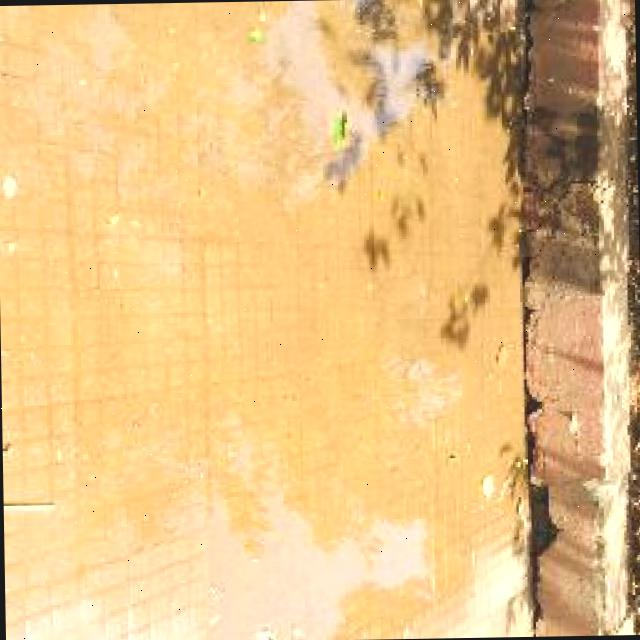waterlogging: (184, 476, 438, 640), (264, 0, 438, 211)
